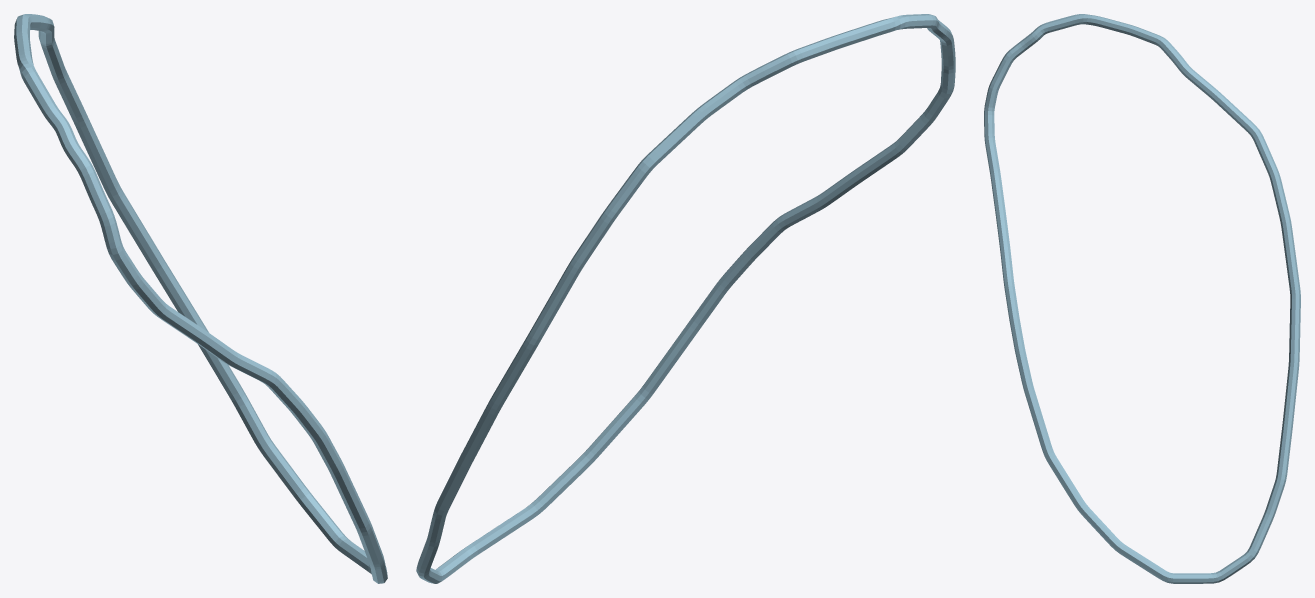
File: articulacoes-zona-orbicularis-r.glb
3 renders of one model, left to right at view 1: azimuth 30°, elevation 25°; view 2: azimuth 150°, elevation 25°; view 3: azimuth 270°, elevation 25°, orthographic. The views are drawn at different scales.
Parts seen in each view (by area): view 1: Zona orbicularis.r; view 2: Zona orbicularis.r; view 3: Zona orbicularis.r.
Boxes of the visible parts, bbox=[...] form: Zona orbicularis.r: bbox=[14, 14, 387, 583]; Zona orbicularis.r: bbox=[416, 14, 955, 583]; Zona orbicularis.r: bbox=[984, 14, 1300, 583].
Size of the model in its own units: 0.0309 by 0.045 by 0.0297.
